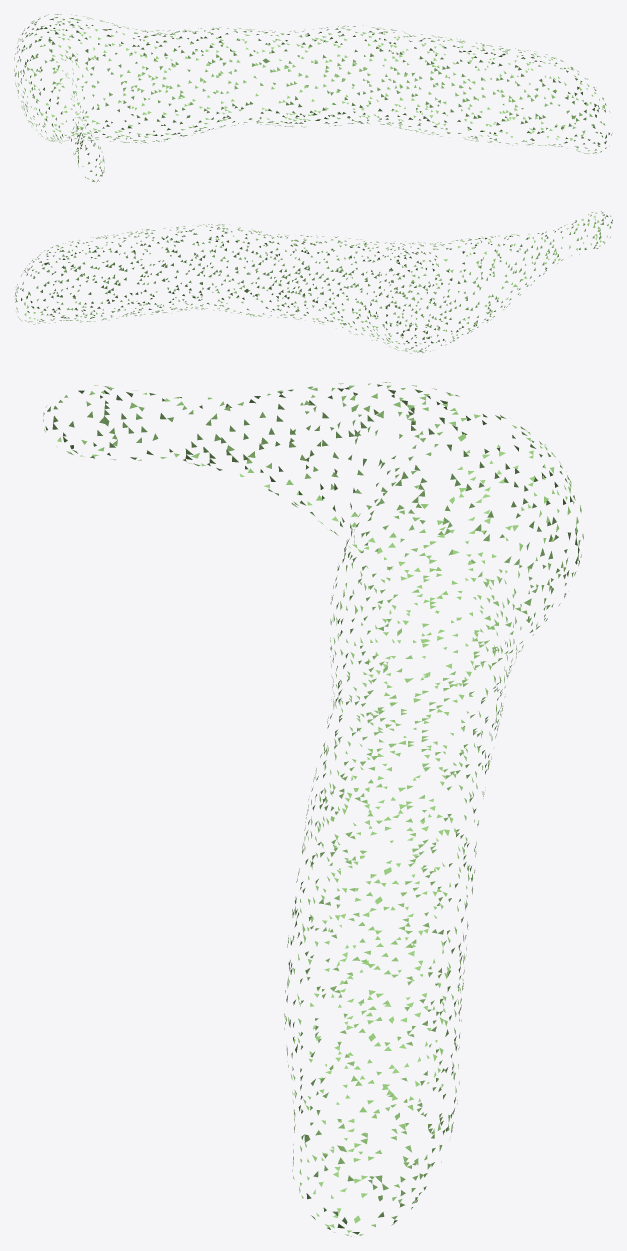
File: morph_014.glb
3 views of the same model, one above another, from view 1: azimuth 30°, elevation 25°; view 2: azimuth 150°, elevation 25°; view 3: azimuth 270°, elevation 25° (orthographic). The views are drawn at different scales.
Size of the model in its own units: 117 by 43.65 by 53.02.
